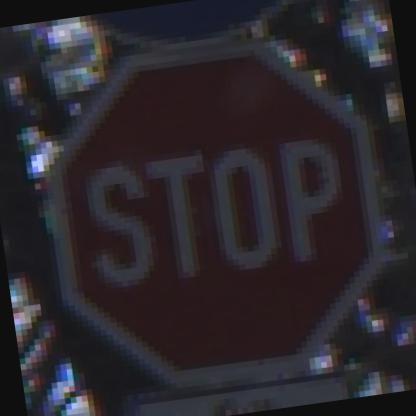stop: (24, 43, 402, 390)
